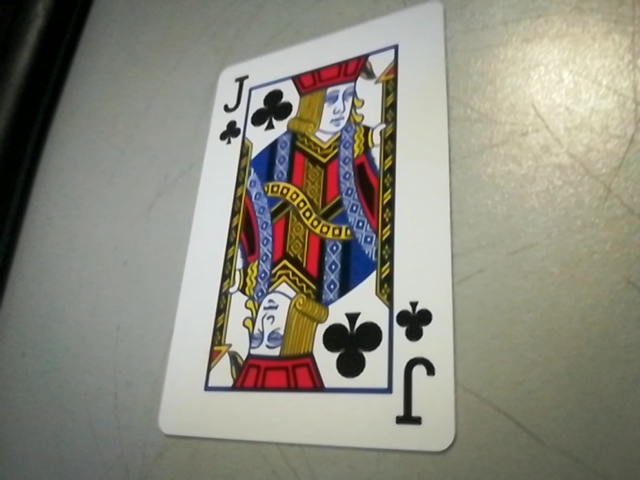mh j: (386, 293, 446, 438)
